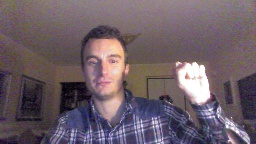Pugno: (169, 59, 212, 102)
